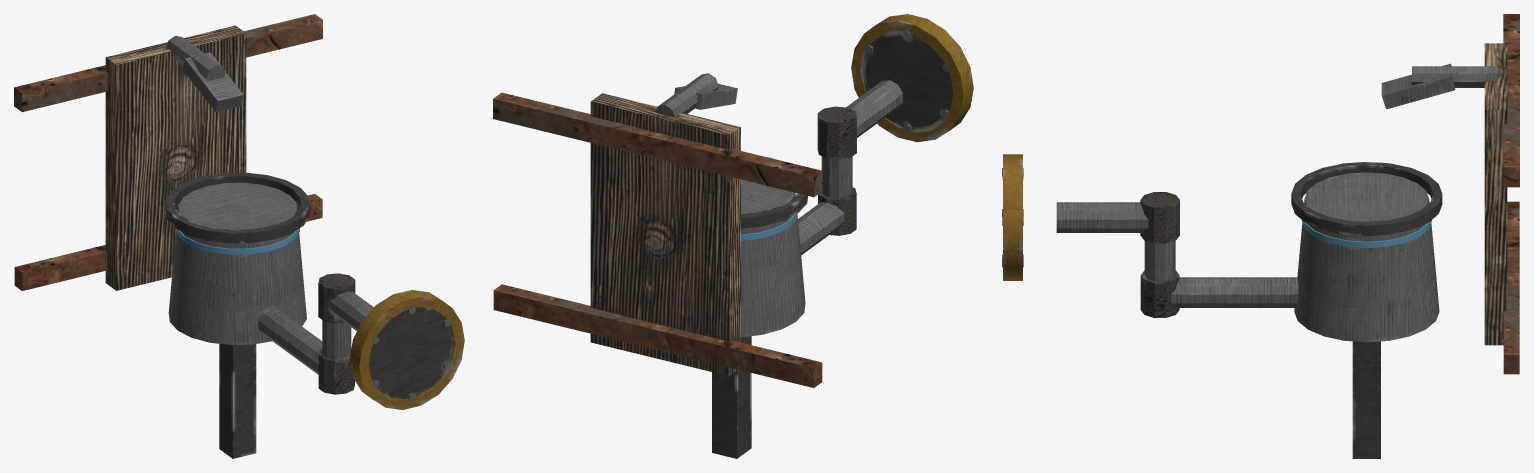
The model's file is feSapTapper_HD.fbx.
The picture shows the model from 3 angles, left to right: view 1: azimuth 30°, elevation 25°; view 2: azimuth 150°, elevation 25°; view 3: azimuth 270°, elevation 25°; orthographic projection. The views are drawn at different scales.
Parts seen in each view (by area): view 1: feSapTapper_Base; view 2: feSapTapper_Base; view 3: feSapTapper_Base.
Part boxes in pixels (x1,y1,x2,y2): feSapTapper_Base: (14,14,464,458); feSapTapper_Base: (493,14,973,458); feSapTapper_Base: (1002,14,1519,458).
Size of the model in its own units: 0.7024 by 0.8248 by 1.
2 materials, 1 textured.
